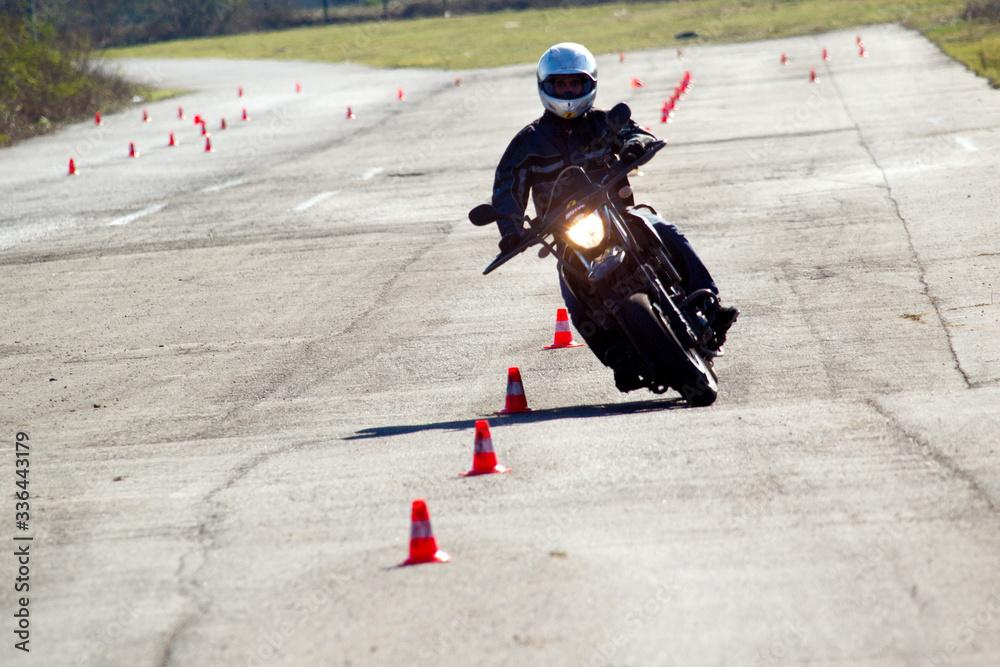helmet: (535, 41, 599, 122)
